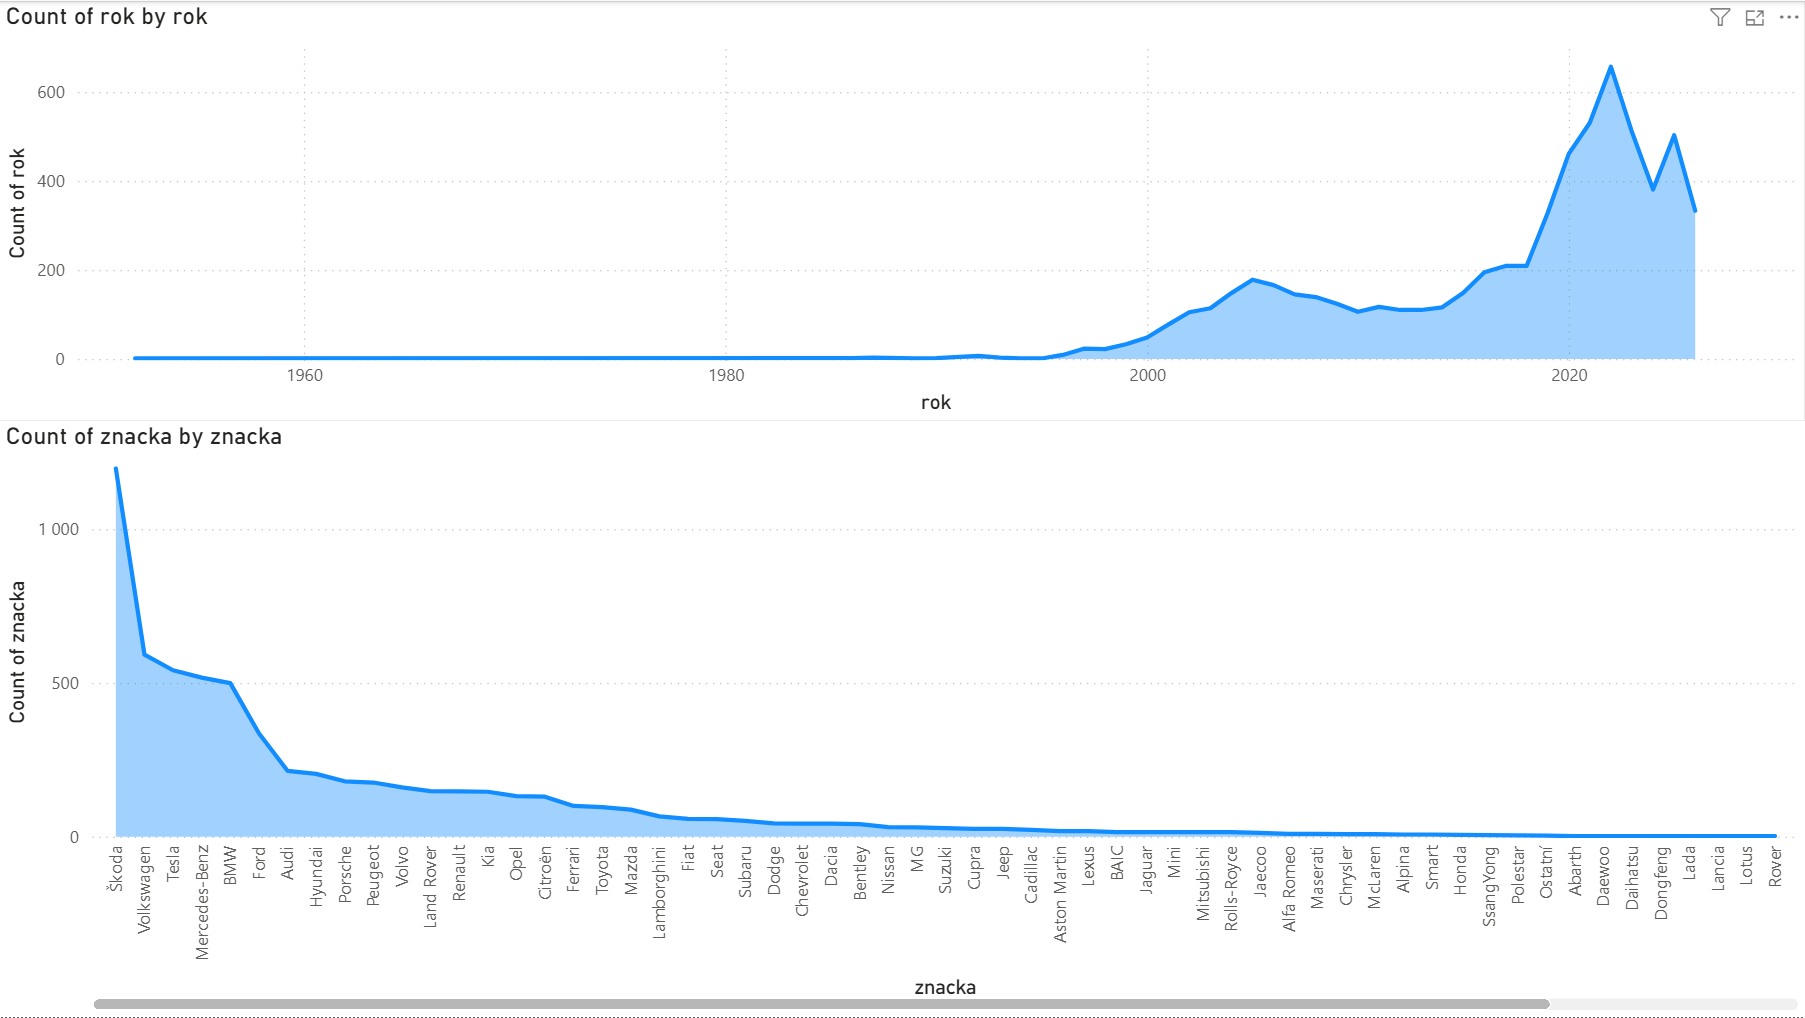

What the dashboard file says about the page in this screenshot:
{"tool":"powerbi","page":{"name":"Page 1","canvas":[1280,720],"ordinal":0},"visuals":[{"type":"areaChart","fields":{"Category":["sauto_dataset.rok"],"Y":["CountNonNull(sauto_dataset.rok)"]},"box":[0,0,1280.2,297.7],"z":0},{"type":"areaChart","fields":{"Category":["sauto_dataset.znacka"],"Y":["CountNonNull(sauto_dataset.znacka)"]},"box":[0,297.7,1280.2,422.6],"z":1}]}

Visuals, with their boxes in screenshot pixels (x1, y1, x2, y2), scaled from the page's 1280x720 canvas onto the 1805x1018 screenshot:
areaChart - sauto_dataset.rok x CountNonNull(sauto_dataset.rok): Rect(0, 0, 1804, 421)
areaChart - sauto_dataset.znacka x CountNonNull(sauto_dataset.znacka): Rect(0, 421, 1804, 1017)
